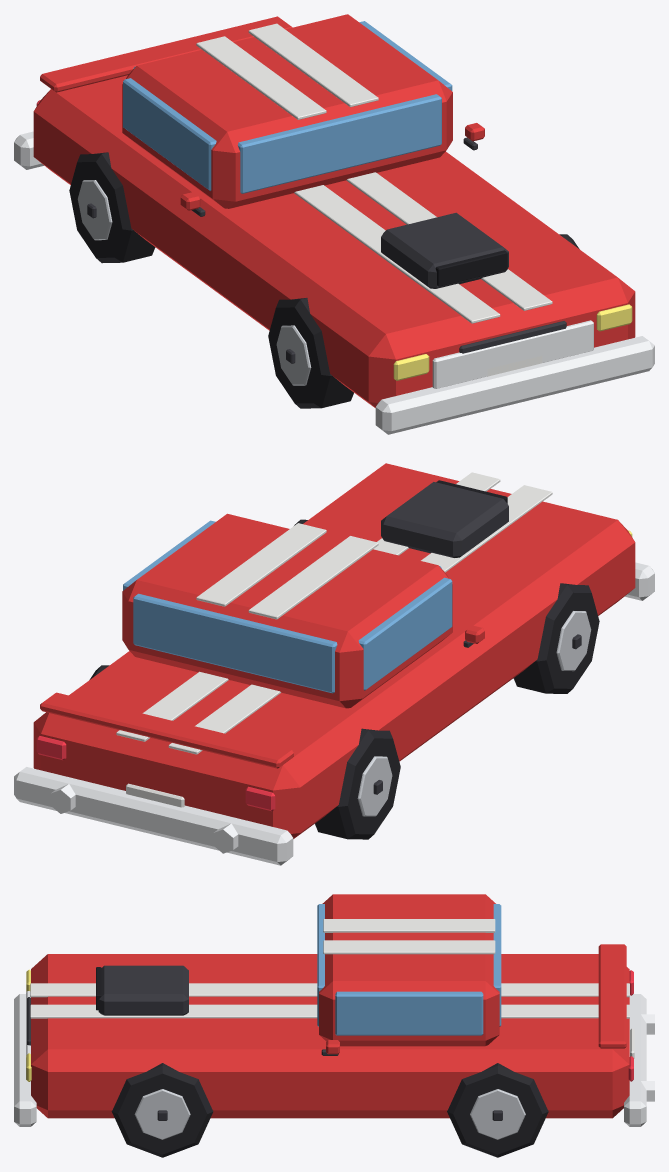
Rendered from RedMuscleCar.fbx.
3 renders of one model, top to bottom at view 1: azimuth 30°, elevation 25°; view 2: azimuth 150°, elevation 25°; view 3: azimuth 270°, elevation 25°, orthographic. The views are drawn at different scales.
Parts seen in each view (by area): view 1: RedMuscleCar, RedMuscleCar_WheelFR, RedMuscleCar_WheelBR; view 2: RedMuscleCar, RedMuscleCar_WheelBR, RedMuscleCar_WheelFR; view 3: RedMuscleCar, RedMuscleCar_WheelBL, RedMuscleCar_WheelFL.
Part boxes in pixels (<box>): RedMuscleCar: <box>14,14,654,434</box>; RedMuscleCar_WheelFR: <box>268,298,353,408</box>; RedMuscleCar_WheelBR: <box>69,152,155,263</box>; RedMuscleCar: <box>14,463,654,865</box>; RedMuscleCar_WheelBR: <box>315,728,400,839</box>; RedMuscleCar_WheelFR: <box>513,583,599,693</box>; RedMuscleCar: <box>14,894,654,1126</box>; RedMuscleCar_WheelBL: <box>447,1063,548,1157</box>; RedMuscleCar_WheelFL: <box>111,1063,213,1157</box>.
Size of the model in its own units: 5.15 by 3.28 by 11.35.
1 material, 1 textured.
